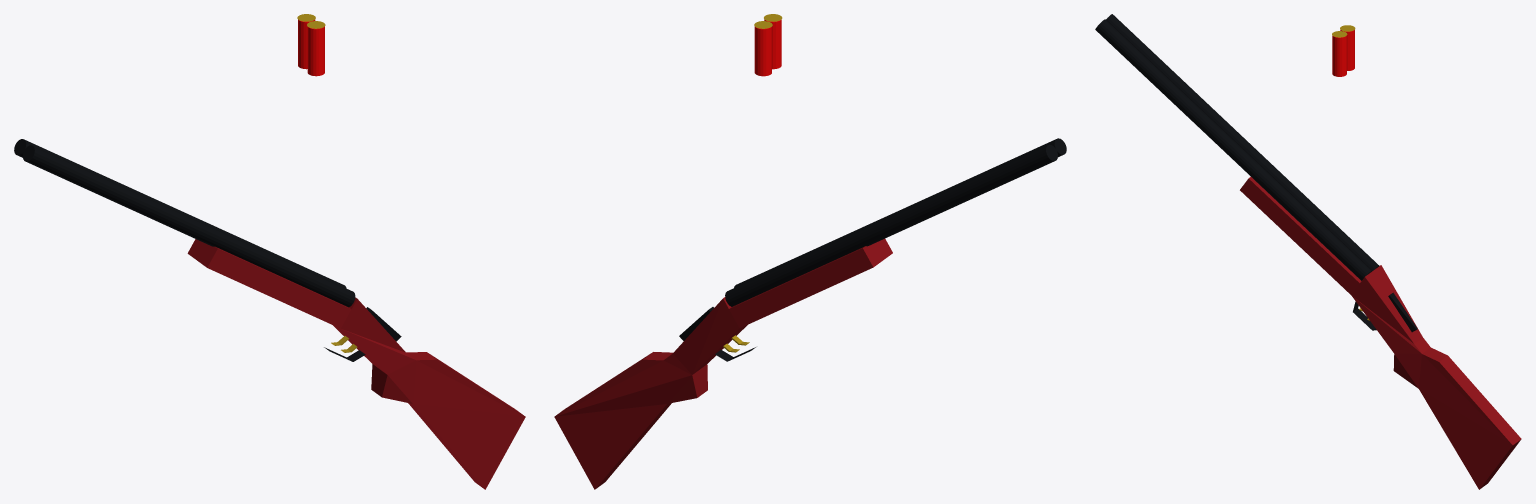
The model's file is double-barreled-shotgun0005.obj.
3 views of the same model, side by side, from view 1: azimuth 30°, elevation 25°; view 2: azimuth 150°, elevation 25°; view 3: azimuth 330°, elevation 25° (orthographic). The views are drawn at different scales.
Visible parts, largest first — view 1: rearStock, leftBarrel, foreGrip, rightBarrel, shellPlastic; view 2: rearStock, rightBarrel, foreGrip, leftBarrel, shellPlastic2; view 3: rearStock, leftBarrel, rightBarrel, foreGrip, shellPlastic.
Boxes of the visible parts, left/top/right/bottom form: rearStock: left=333, top=297, right=525, bottom=489; leftBarrel: left=23, top=145, right=355, bottom=307; foreGrip: left=187, top=239, right=351, bottom=328; rightBarrel: left=14, top=139, right=346, bottom=288; shellPlastic: left=307, top=26, right=324, bottom=76; rearStock: left=554, top=297, right=747, bottom=489; rightBarrel: left=725, top=144, right=1057, bottom=306; foreGrip: left=729, top=238, right=892, bottom=327; leftBarrel: left=734, top=138, right=1066, bottom=287; shellPlastic2: left=754, top=26, right=771, bottom=76; rearStock: left=1351, top=265, right=1521, bottom=489; leftBarrel: left=1095, top=19, right=1371, bottom=280; rightBarrel: left=1106, top=14, right=1379, bottom=270; foreGrip: left=1240, top=177, right=1361, bottom=294; shellPlastic: left=1332, top=35, right=1346, bottom=76.
Bounding box in the file's own units: 3 × 2.9 × 0.2057.
